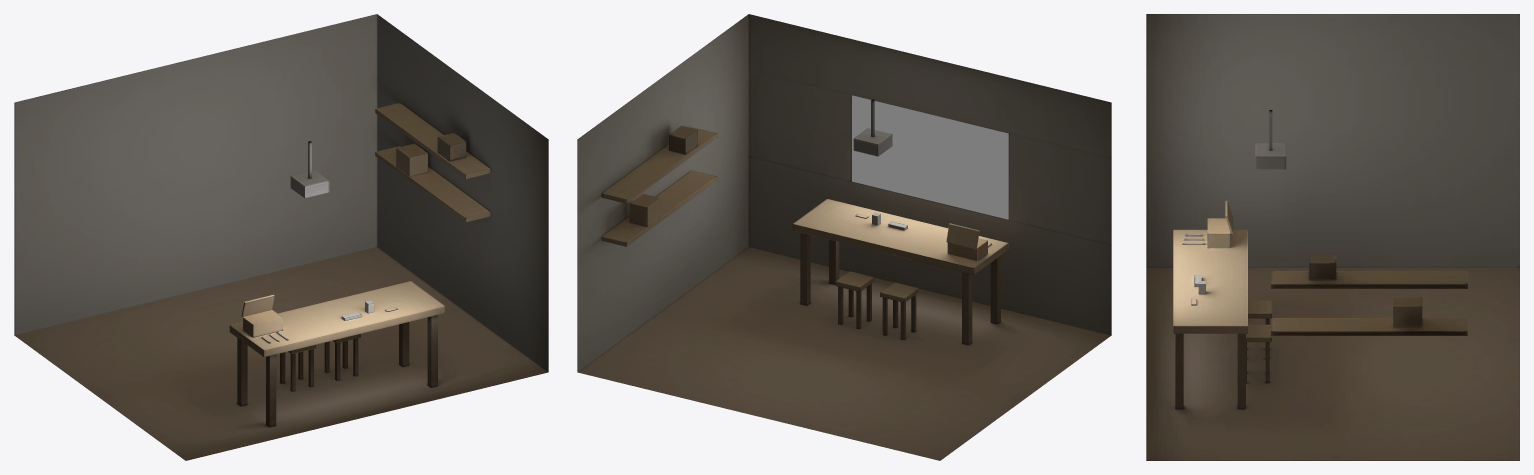
Rendered from era_toolbox.glb.
3 renders of one model, left to right at view 1: azimuth 30°, elevation 25°; view 2: azimuth 150°, elevation 25°; view 3: azimuth 270°, elevation 25°, orthographic. The views are drawn at different scales.
Visible parts, largest first — view 1: CH_era_toolbox_static; view 2: CH_era_toolbox_static; view 3: CH_era_toolbox_static.
Boxes of the visible parts, x1,y1,x2,y2 form: CH_era_toolbox_static: (14,14,548,460); CH_era_toolbox_static: (577,14,1111,460); CH_era_toolbox_static: (1146,14,1519,460).
Bounding box in the file's own units: 4.4 × 2.7 × 3.66.
Materials: 1 (1 with a texture image).
